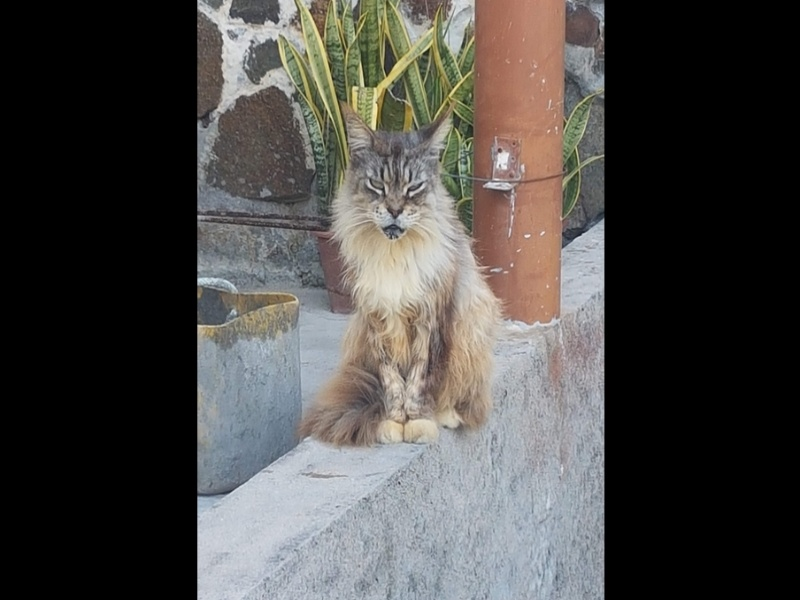cat: (302, 102, 495, 449)
